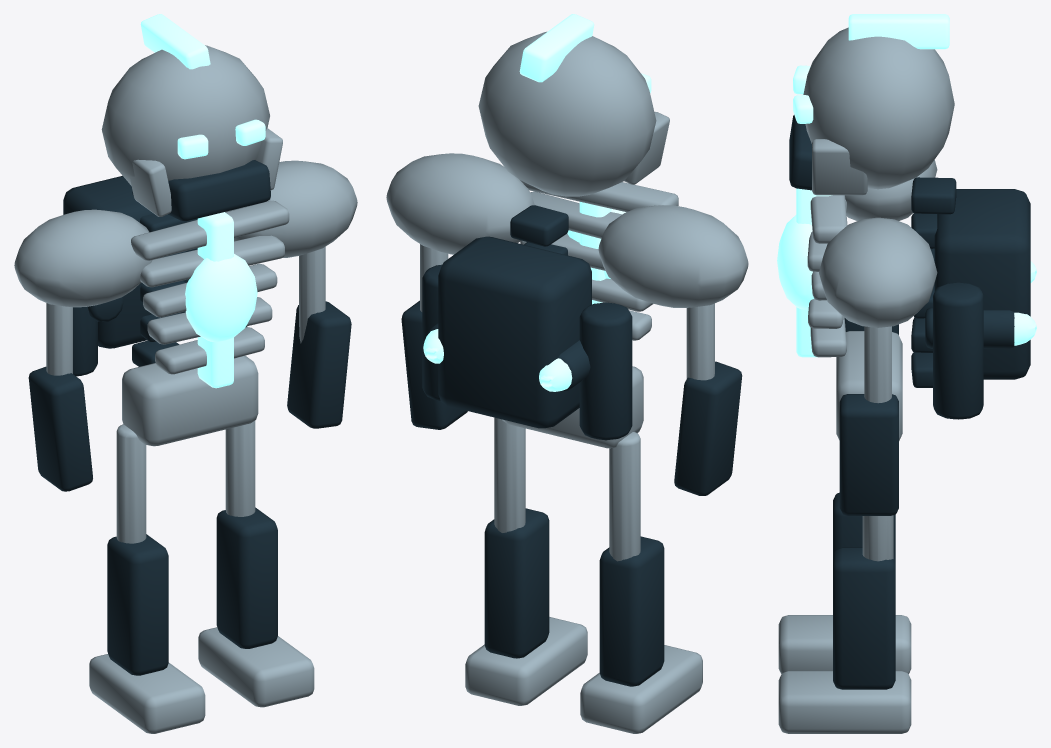
File: Technician_CryoRevenant_Armor.fbx
3 views of the same model, side by side, from view 1: azimuth 30°, elevation 25°; view 2: azimuth 150°, elevation 25°; view 3: azimuth 270°, elevation 25° (orthographic). The views are drawn at different scales.
Visible parts, largest first — view 1: Skull.004, Scapula_L.004, Pelvis.004, ShinBlade_L.004, ShinBlade_R.004, Scapula_R.004, ForearmBlade_R.004, ForearmBlade_L.004, Talon_R.004, Talon_L.004, FrozenHeart.004, RepairSymbiote (+19 smaller); view 2: RepairSymbiote, Skull.004, Scapula_L.004, Scapula_R.004, ShinBlade_L.004, ShinBlade_R.004, ForearmBlade_L.004, ToolPod_-1, Talon_L.004, Talon_R.004, Femur_L.004, Femur_R.004 (+15 smaller); view 3: Skull.004, RepairSymbiote, Scapula_R.004, ShinBlade_R.004, Talon_R.004, ForearmBlade_R.004, ToolPod_1, Talon_L.004, CranialSpine.004, Pelvis.004, FrozenHeart.004, CheekBlade_1.004 (+17 smaller).
Boxes of the visible parts, left/top/right/bottom form: Skull.004: left=101, top=45, right=269, bottom=185; Scapula_L.004: left=14, top=209, right=152, bottom=307; Pelvis.004: left=122, top=355, right=258, bottom=446; ShinBlade_L.004: left=107, top=534, right=168, bottom=675; ShinBlade_R.004: left=216, top=507, right=277, bottom=648; Scapula_R.004: left=225, top=160, right=357, bottom=257; ForearmBlade_R.004: left=287, top=301, right=351, bottom=428; ForearmBlade_L.004: left=28, top=366, right=92, bottom=491; Talon_R.004: left=198, top=627, right=314, bottom=707; Talon_L.004: left=89, top=654, right=205, bottom=733; FrozenHeart.004: left=185, top=254, right=257, bottom=342; RepairSymbiote: left=63, top=176, right=197, bottom=348; RepairSymbiote: left=438, top=236, right=591, bottom=428; Skull.004: left=478, top=31, right=656, bottom=196; Scapula_L.004: left=598, top=205, right=748, bottom=307; Scapula_R.004: left=386, top=153, right=534, bottom=254; ShinBlade_L.004: left=599, top=536, right=664, bottom=686; ShinBlade_R.004: left=484, top=508, right=549, bottom=658; ForearmBlade_L.004: left=674, top=361, right=742, bottom=495; ToolPod_-1: left=579, top=302, right=632, bottom=440; Talon_L.004: left=580, top=645, right=702, bottom=733; Talon_R.004: left=465, top=617, right=587, bottom=705; Femur_L.004: left=609, top=431, right=640, bottom=561; Femur_R.004: left=494, top=417, right=525, bottom=532; Skull.004: left=803, top=27, right=954, bottom=189; RepairSymbiote: left=934, top=189, right=1030, bottom=379; Scapula_R.004: left=819, top=217, right=937, bottom=327; ShinBlade_R.004: left=833, top=547, right=895, bottom=689; Talon_R.004: left=778, top=671, right=911, bottom=733; ForearmBlade_R.004: left=839, top=394, right=898, bottom=515; ToolPod_1: left=933, top=282, right=983, bottom=419; Talon_L.004: left=778, top=615, right=911, bottom=673; CranialSpine.004: left=848, top=14, right=949, bottom=49; Pelvis.004: left=836, top=331, right=902, bottom=440; FrozenHeart.004: left=777, top=215, right=813, bottom=309; CheekBlade_1.004: left=812, top=139, right=867, bottom=195.
Size of the model in its own units: 231 by 429 by 149.
